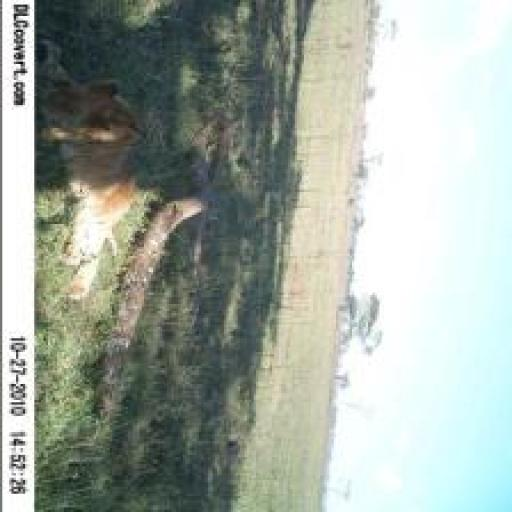lion: (36, 23, 150, 328)
